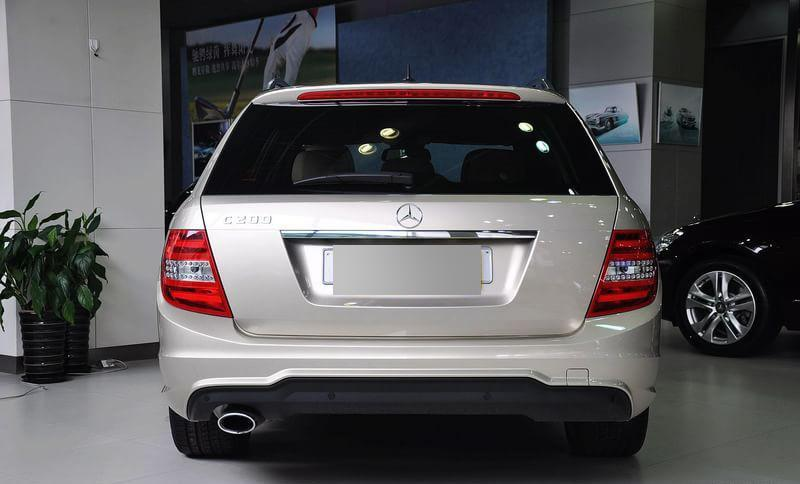Wagon: (155, 62, 665, 458)
